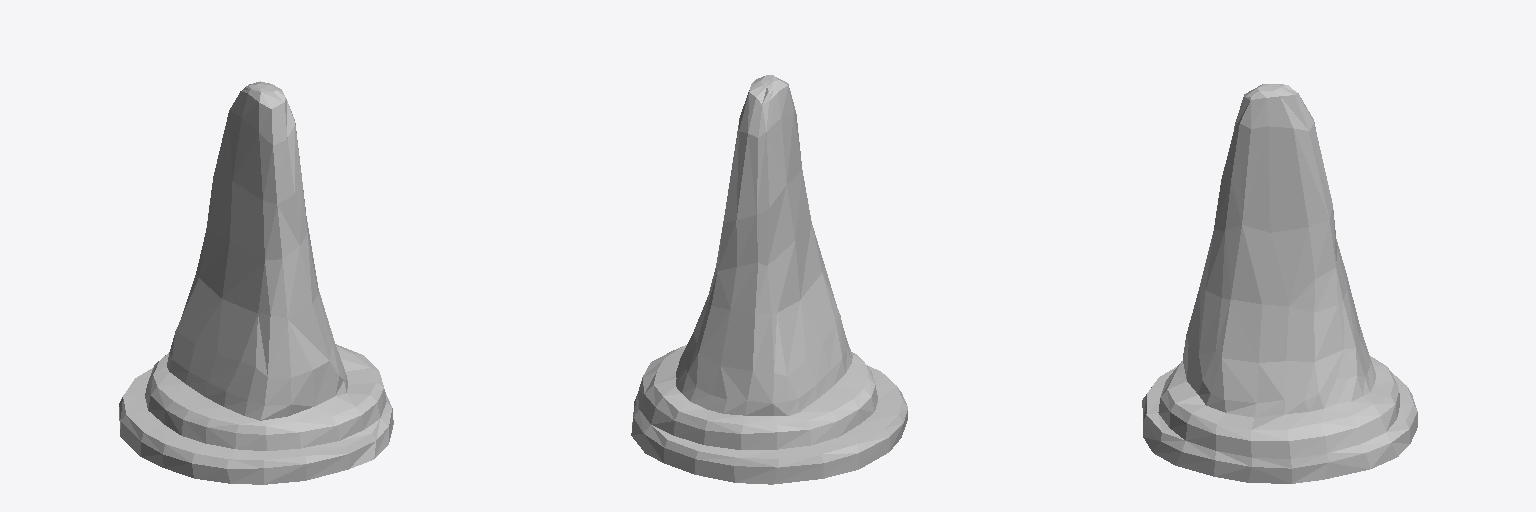
Rendered from rune_03.obj.
3 renders of one model, left to right at view 1: azimuth 30°, elevation 25°; view 2: azimuth 150°, elevation 25°; view 3: azimuth 270°, elevation 25°, orthographic.
Parts seen in each view (by area): view 1: rune_03; view 2: rune_03; view 3: rune_03.
Boxes of the visible parts, <box> form: rune_03: <box>119,81,393,484</box>; rune_03: <box>631,75,907,484</box>; rune_03: <box>1142,84,1417,483</box>.
Size of the model in its own units: 7.52 by 10.39 by 7.59.